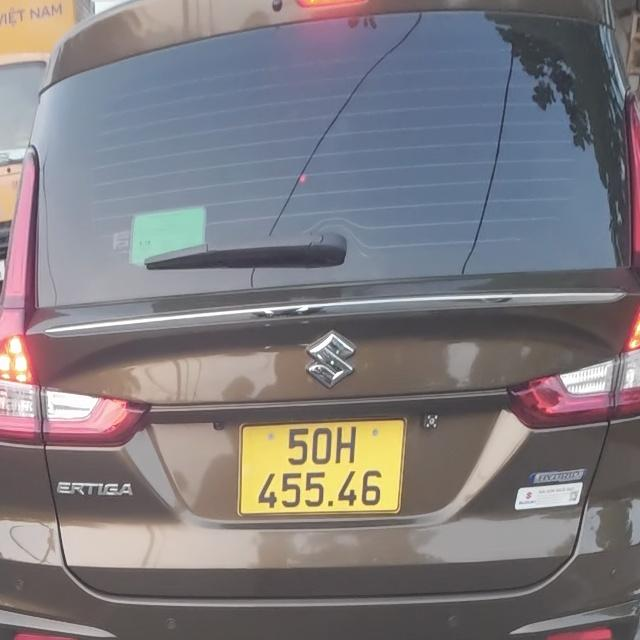license-plate: (239, 416, 407, 517)
